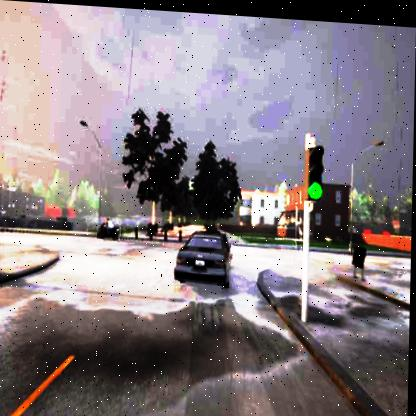motobike: (99, 217, 117, 238)
vehicle: (175, 227, 233, 285)
